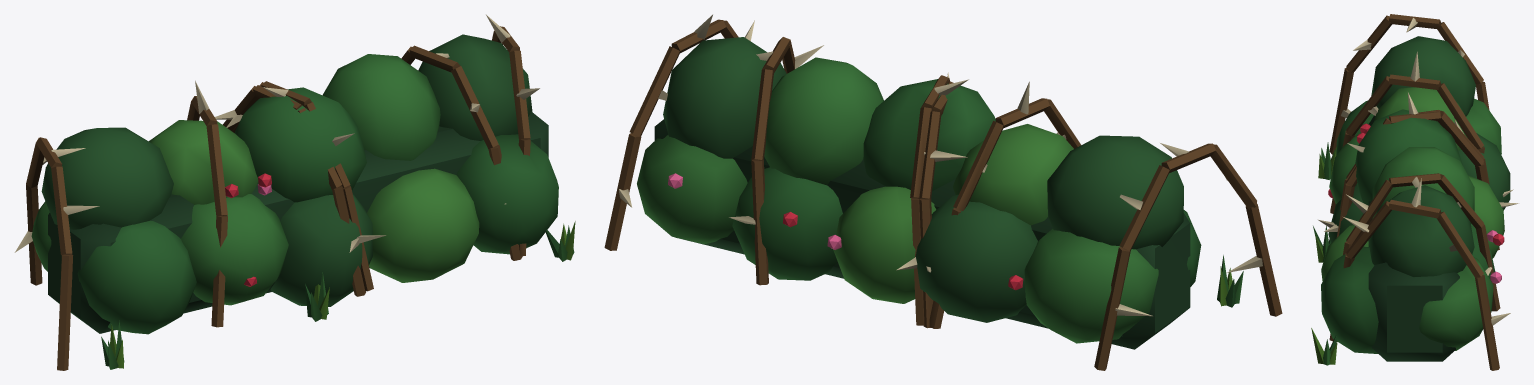
The model's file is x_barrier_gruental.glb.
3 views of the same model, side by side, from view 1: azimuth 30°, elevation 25°; view 2: azimuth 150°, elevation 25°; view 3: azimuth 270°, elevation 25° (orthographic). The views are drawn at different scales.
Parts seen in each view (by area): view 1: body; view 2: body; view 3: body.
Boxes of the visible parts, x1=… form: body: x1=14, y1=14, x2=575, y2=370; body: x1=604, y1=14, x2=1282, y2=370; body: x1=1311, y1=14, x2=1518, y2=370.
Bounding box in the file's own units: 8.5 × 3.48 × 3.38.
